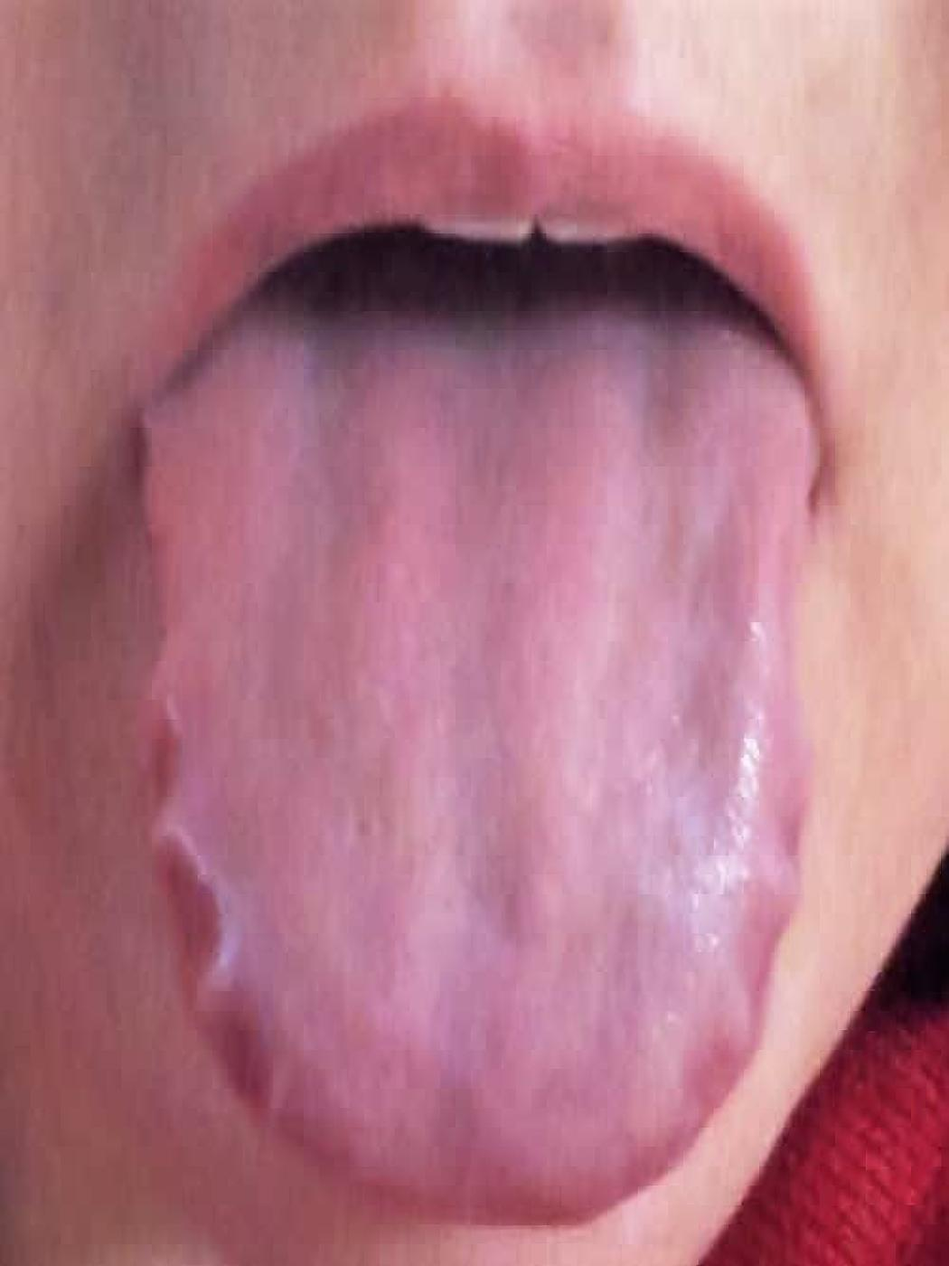baitaishe: (140, 314, 813, 1230)
chihenshe: (146, 682, 277, 1123), (682, 770, 813, 1133)
